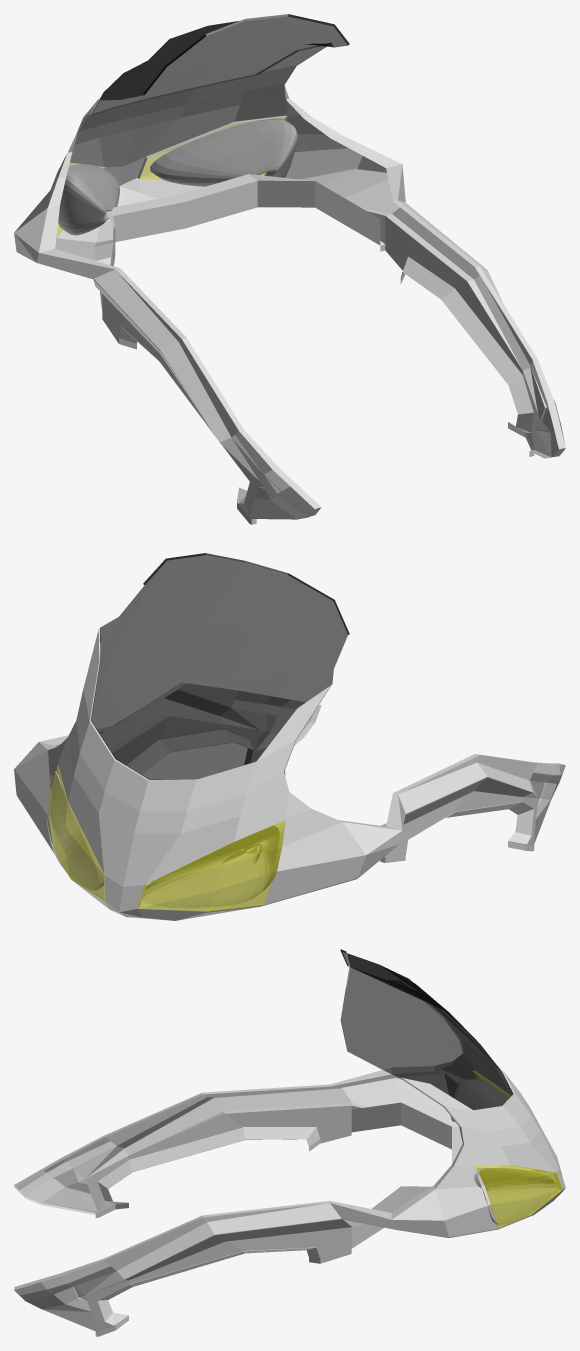
File: 9- Cupula.fbx
3 renders of one model, top to bottom at view 1: azimuth 30°, elevation 25°; view 2: azimuth 150°, elevation 25°; view 3: azimuth 270°, elevation 25°, orthographic. The views are drawn at different scales.
Parts seen in each view (by area): view 1: x_bikerduc:Plane093; view 2: x_bikerduc:Plane093; view 3: x_bikerduc:Plane093.
Boxes of the visible parts, box(x1,y1,x2,y2) form: x_bikerduc:Plane093: box(14, 14, 565, 524); x_bikerduc:Plane093: box(14, 553, 565, 920); x_bikerduc:Plane093: box(14, 949, 565, 1336).
Size of the model in its own units: 4.31 by 4.11 by 6.59.
